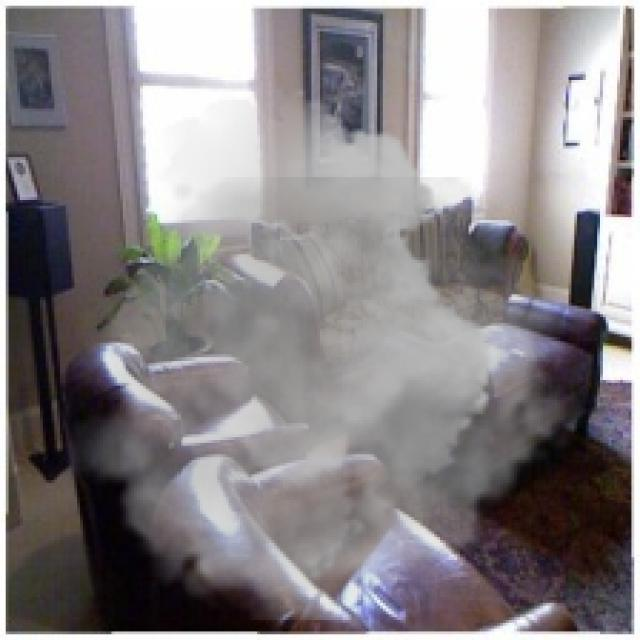smoke: (63, 89, 588, 620)
